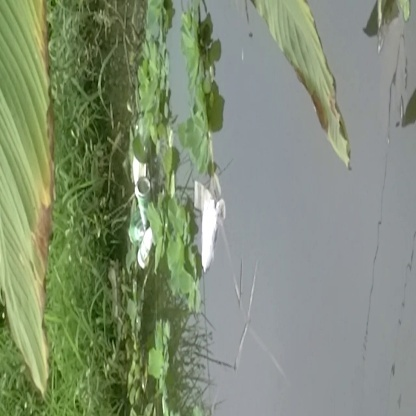leaf: (253, 4, 356, 173)
